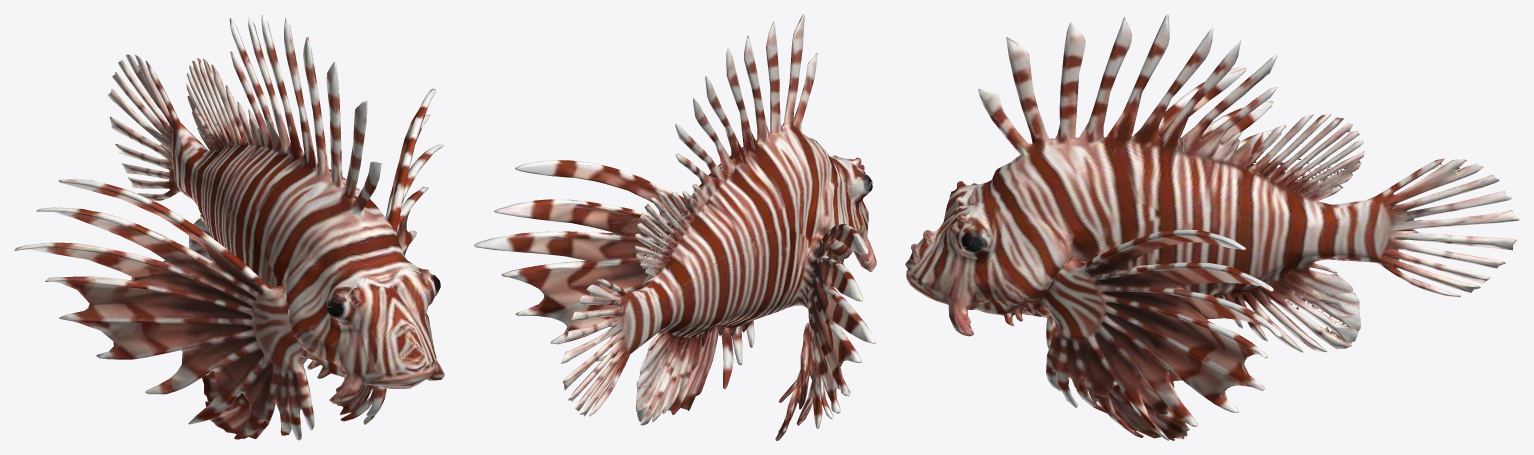
File: fish_lionfish.glb
The picture shows the model from 3 angles, left to right: view 1: azimuth 30°, elevation 25°; view 2: azimuth 150°, elevation 25°; view 3: azimuth 270°, elevation 25°; orthographic projection. The views are drawn at different scales.
Parts seen in each view (by area): view 1: Mesh_0; view 2: Mesh_0; view 3: Mesh_0.
Part boxes in pixels (bbox=[...]): Mesh_0: bbox=[14, 14, 444, 440]; Mesh_0: bbox=[474, 14, 876, 440]; Mesh_0: bbox=[905, 14, 1519, 440].
Bounding box in the file's own units: 1.53 × 1.37 × 1.91.
Materials: 1 (1 with a texture image).
